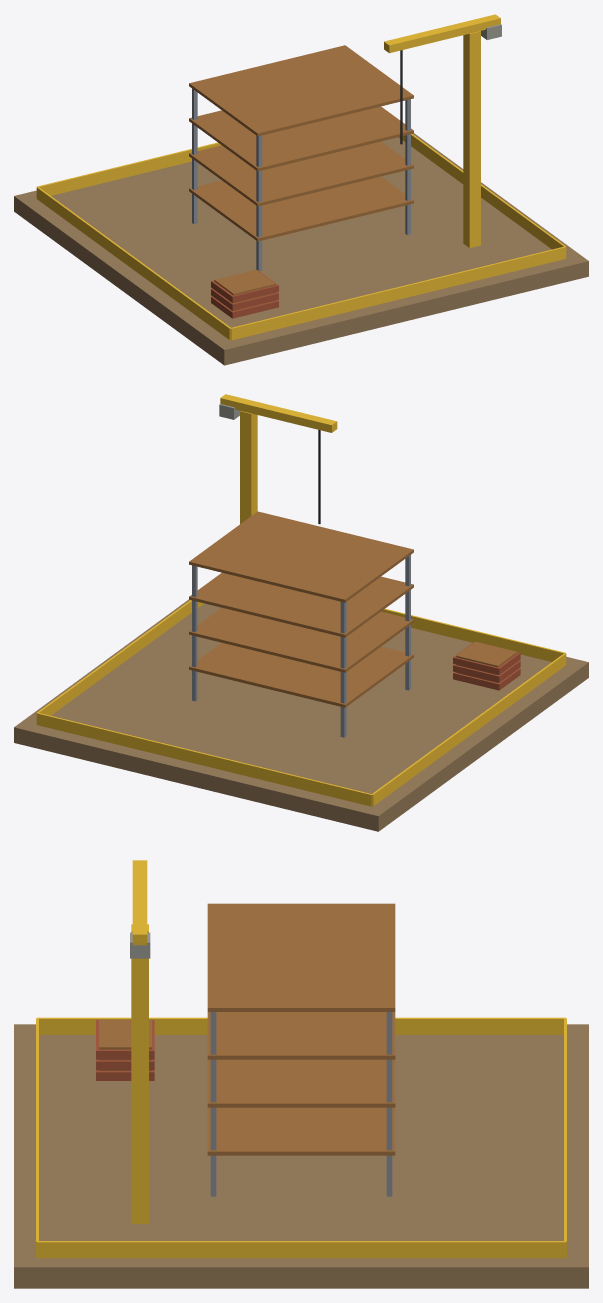
File: construction_site.glb
The picture shows the model from 3 angles, top to bottom: view 1: azimuth 30°, elevation 25°; view 2: azimuth 150°, elevation 25°; view 3: azimuth 270°, elevation 25°; orthographic projection. The views are drawn at different scales.
Visible parts, largest first — view 1: construction_site; view 2: construction_site; view 3: construction_site.
Part boxes in pixels (x1,y1,x2,y2): construction_site: [14, 14, 588, 365]; construction_site: [14, 394, 588, 831]; construction_site: [14, 860, 588, 1288].
Bounding box in the file's own units: 1.96 × 1.22 × 1.96.
